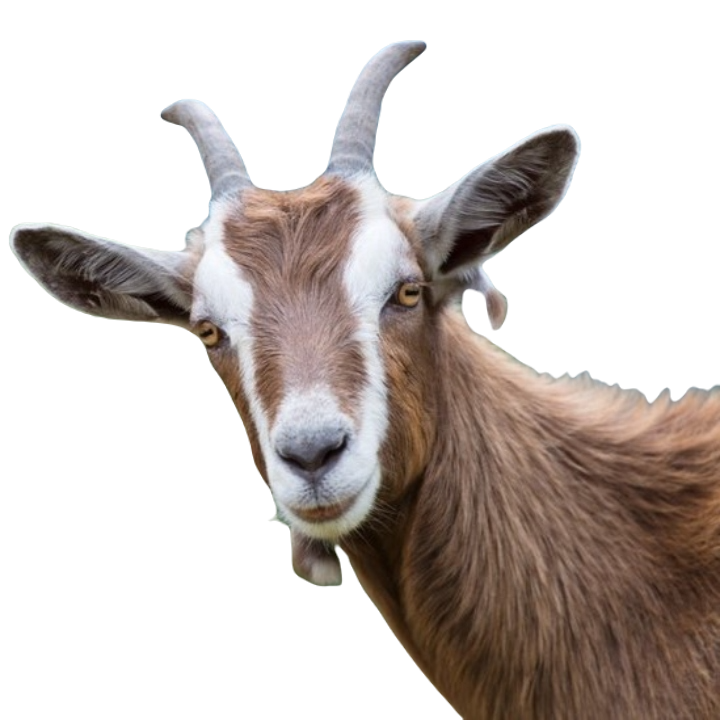Goat: (1, 39, 719, 719)
